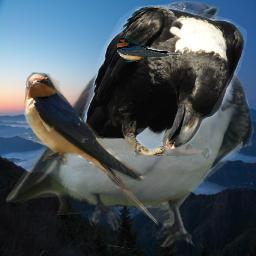Crow: (68, 2, 247, 160)
Swallow: (6, 0, 255, 249), (23, 72, 160, 226), (115, 36, 180, 62)
